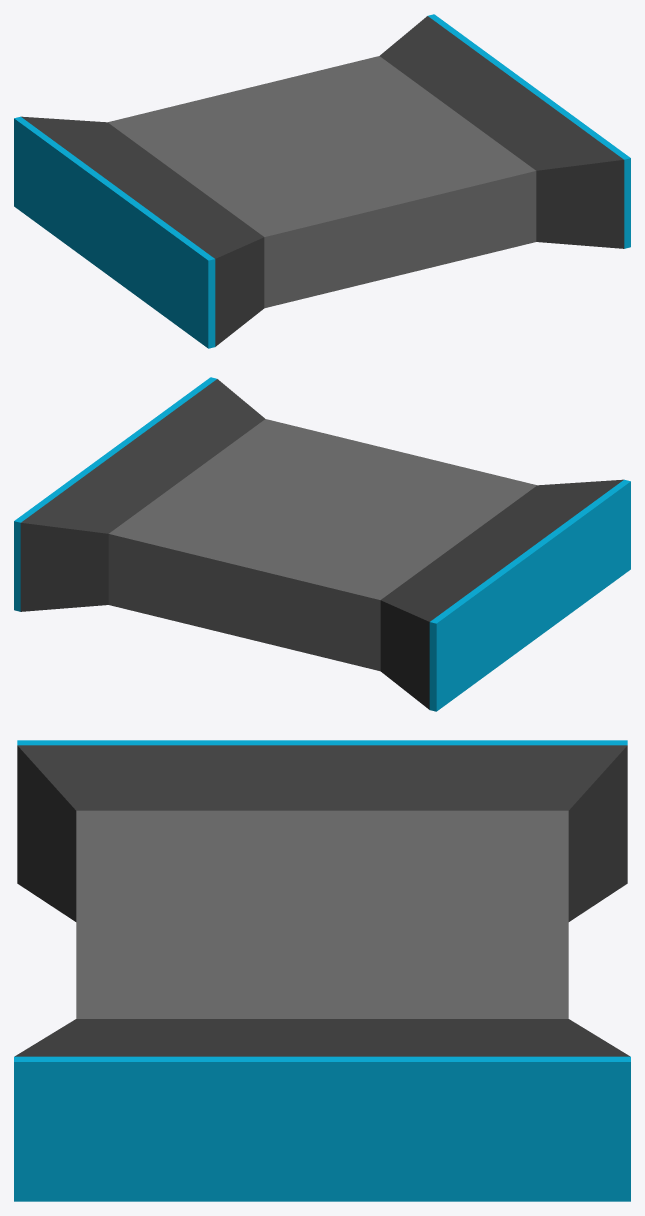
Rendered from MovingPlattform.fbx.
3 views of the same model, one above another, from view 1: azimuth 30°, elevation 25°; view 2: azimuth 150°, elevation 25°; view 3: azimuth 270°, elevation 25° (orthographic). The views are drawn at different scales.
Parts seen in each view (by area): view 1: Cube; view 2: Cube; view 3: Cube.
Part boxes in pixels (x1=…): Cube: x1=14, y1=14, x2=630, y2=348; Cube: x1=14, y1=377, x2=630, y2=711; Cube: x1=14, y1=740, x2=630, y2=1201.
Size of the model in its own units: 620 by 125 by 501.
